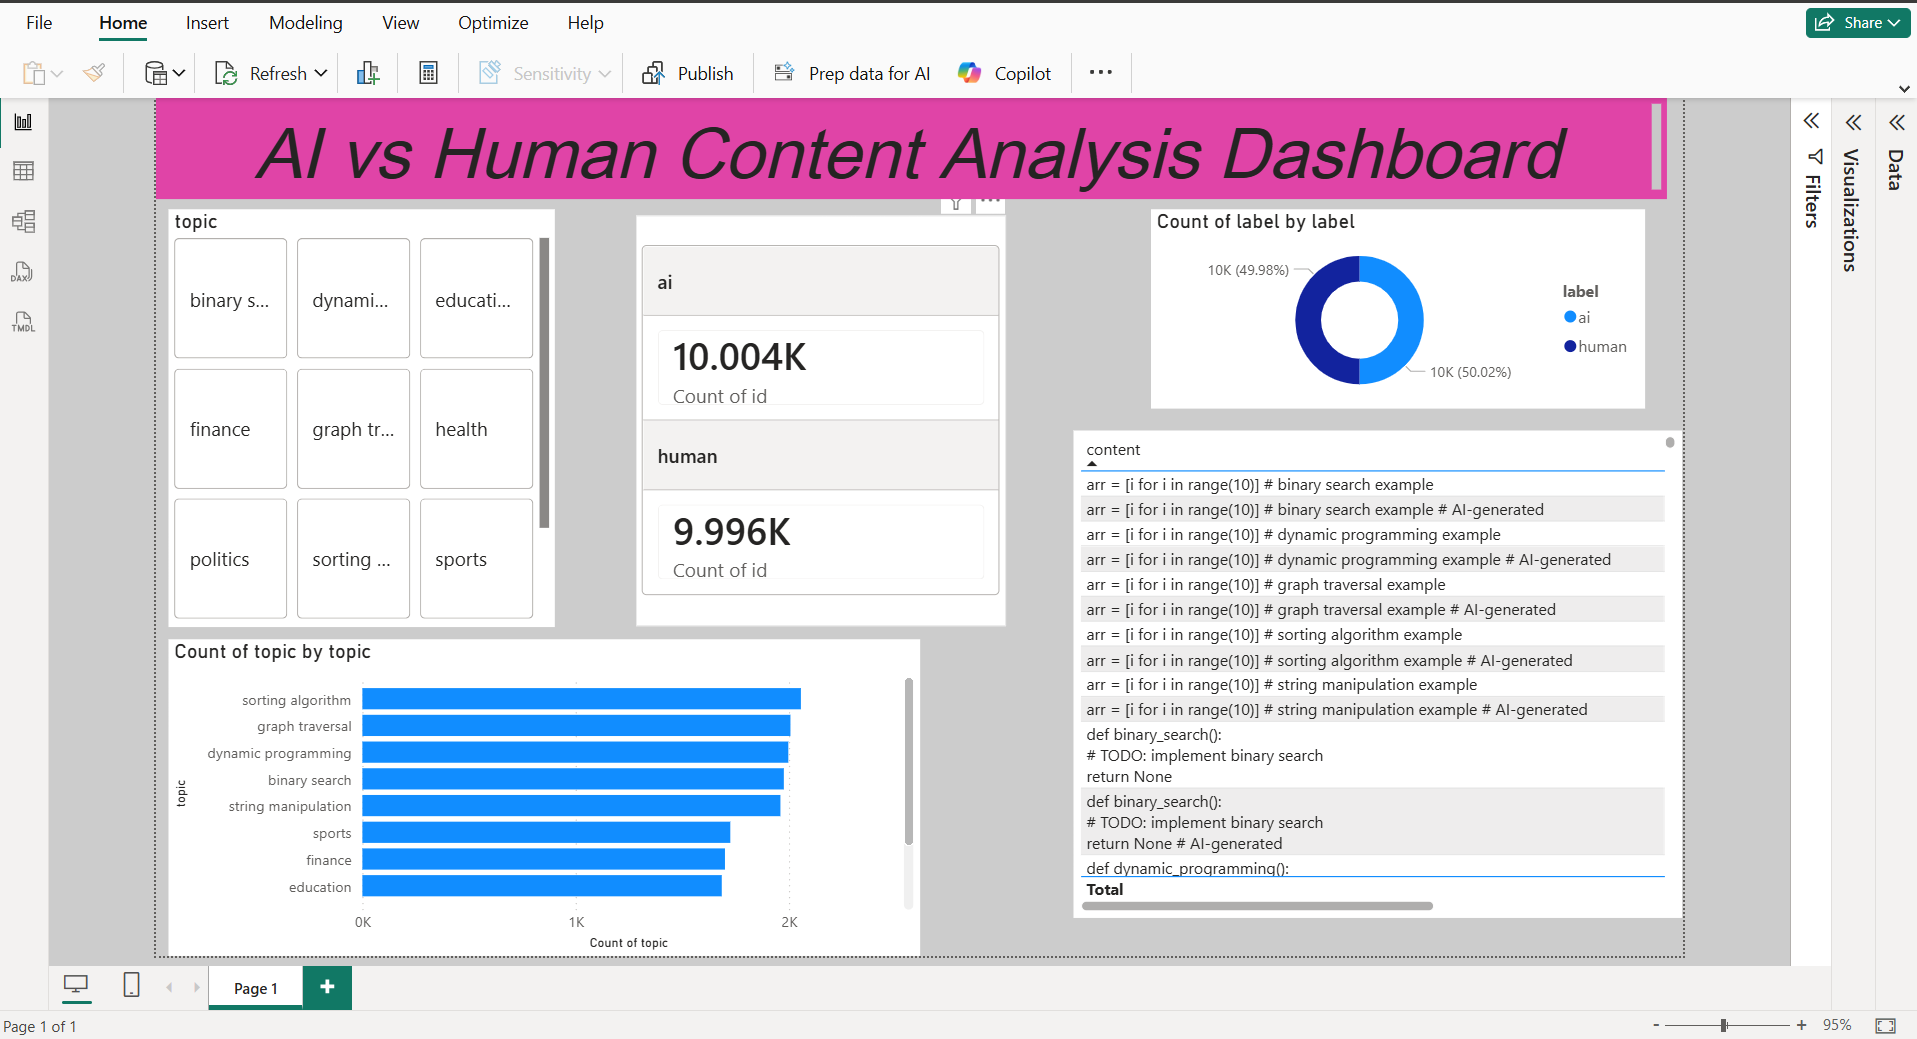

The dashboard page shown, as its layout file describes it:
{"tool":"powerbi","page":{"name":"Page 1","canvas":[1280,720],"ordinal":0},"visuals":[{"type":"cardVisual","fields":{"Data":["CountNonNull(Sheet1.id)"],"Rows":["Sheet1.label"]},"box":[402.3,98.8,310.5,344.2],"z":0},{"type":"donutChart","fields":{"Category":["Sheet1.label"],"Y":["CountNonNull(Sheet1.label)"]},"box":[834.3,92.9,414.3,167.1],"z":1000},{"type":"columnChart","fields":{"Category":["Sheet1.topic"],"Y":["CountNonNull(Sheet1.topic)"]},"box":[10,454.3,630,265.7],"z":2000},{"type":"tableEx","fields":{"Values":["Sheet1.content","Sheet1.label","Sheet1.topic","Sum(Sheet1.word_count)"]},"box":[770,278.6,510,408.6],"z":3000},{"type":"advancedSlicerVisual","fields":{"Values":["Sheet1.topic"]},"box":[10,92.9,324.3,350],"z":4000},{"type":"textbox","box":[0,0,1267.4,84.9],"z":5000}]}

Visuals, with their boxes on the page's 1280x720 design canvas (x1, y1, x2, y2). These are canvas units, not pixel positions in the 1917x1039 screenshot, which may show the page scaled, cropped or inside an application window:
cardVisual - CountNonNull(Sheet1.id) x Sheet1.label: select_region(402, 99, 713, 443)
donutChart - Sheet1.label x CountNonNull(Sheet1.label): select_region(834, 93, 1249, 260)
columnChart - Sheet1.topic x CountNonNull(Sheet1.topic): select_region(10, 454, 640, 720)
tableEx - Sheet1.content x Sheet1.label: select_region(770, 279, 1280, 687)
advancedSlicerVisual - Sheet1.topic: select_region(10, 93, 334, 443)
textbox: select_region(0, 0, 1267, 85)
